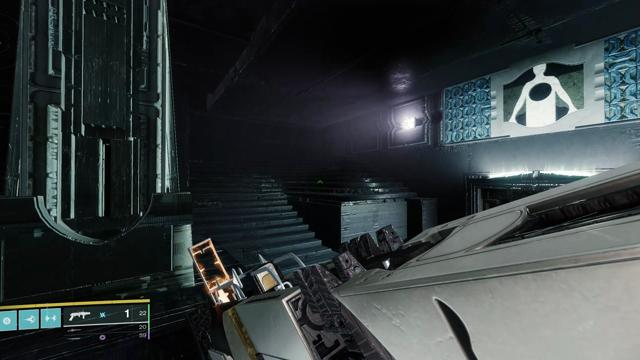grief: (503, 62, 584, 127)
